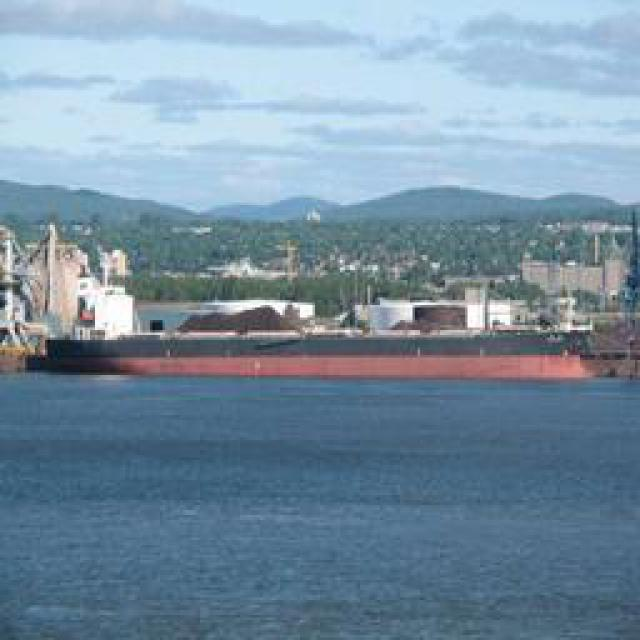Ship: (17, 316, 597, 381)
